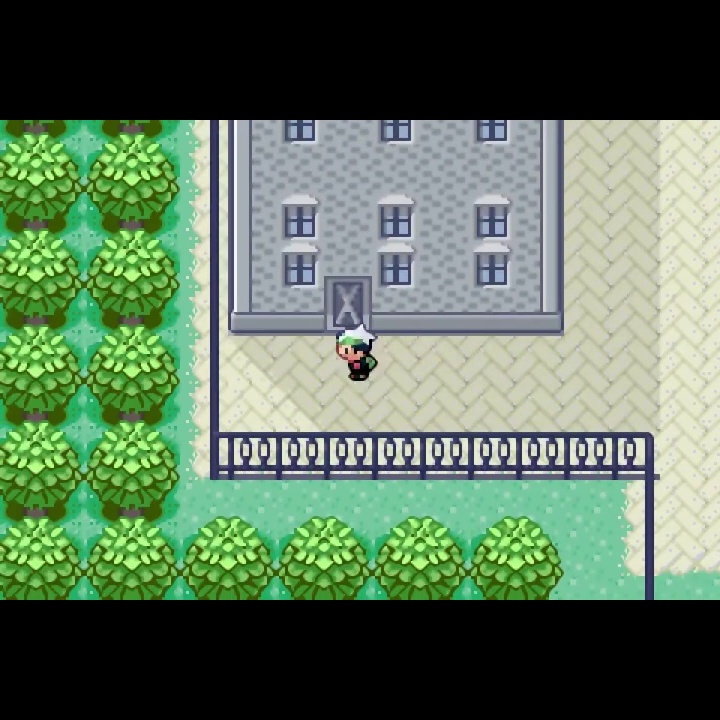agent: (335, 324, 381, 383)
house: (225, 119, 566, 338)
